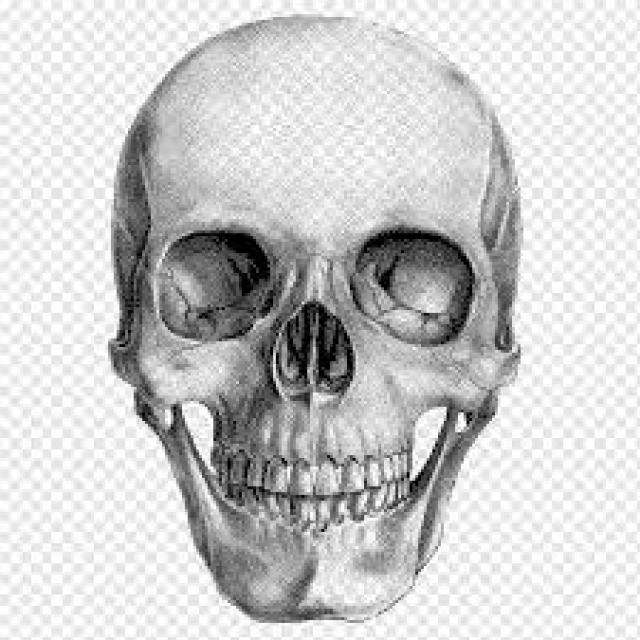skull: (96, 0, 550, 640)
